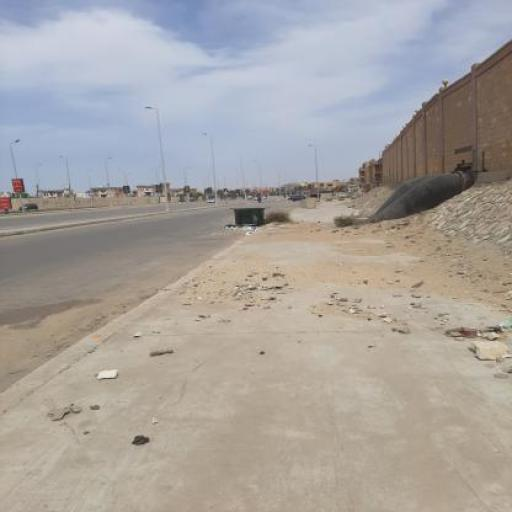street light: (146, 107, 170, 211), (10, 139, 26, 217), (202, 133, 219, 205), (58, 156, 75, 210), (309, 144, 321, 200), (252, 160, 264, 200), (106, 158, 114, 208), (36, 164, 44, 208)
